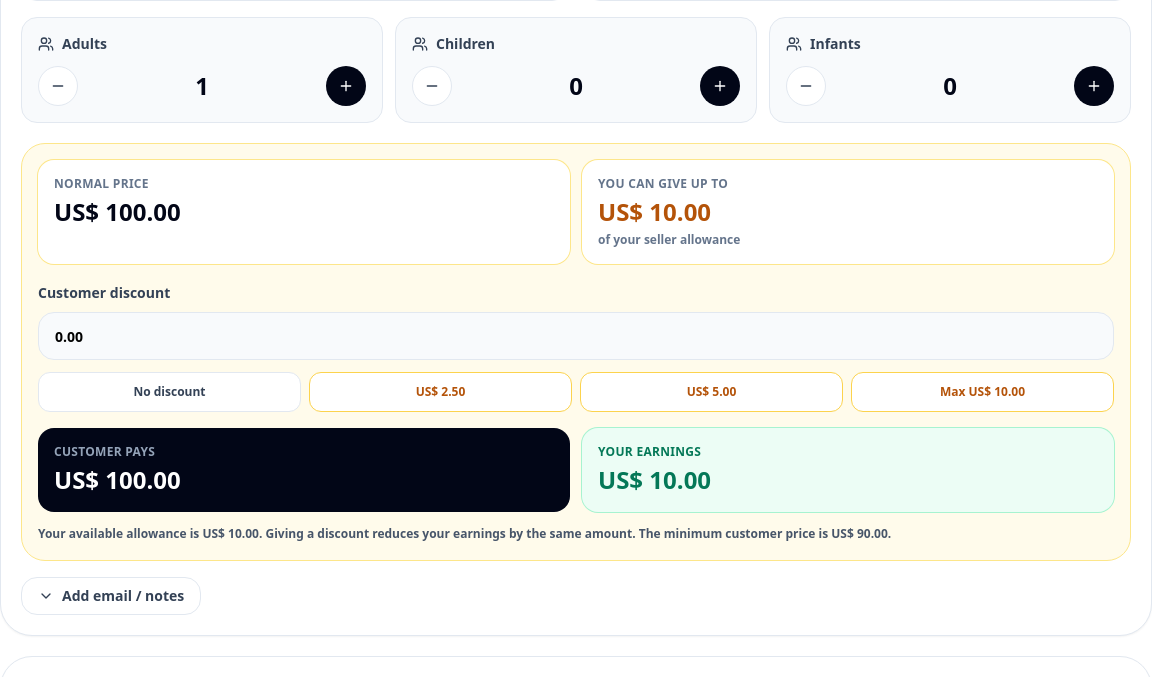
it: TicketingSellerNewBookingPage simple seller discount UI › clamps a typed value above the backend maximum when the field loses focus
(page scrolled)
Expected: the text "Normal price" is shown, [54,175,149,192]
Type "11" into the field labelled "Customer discount" at x=576, y=336, box [38,312,1114,360]
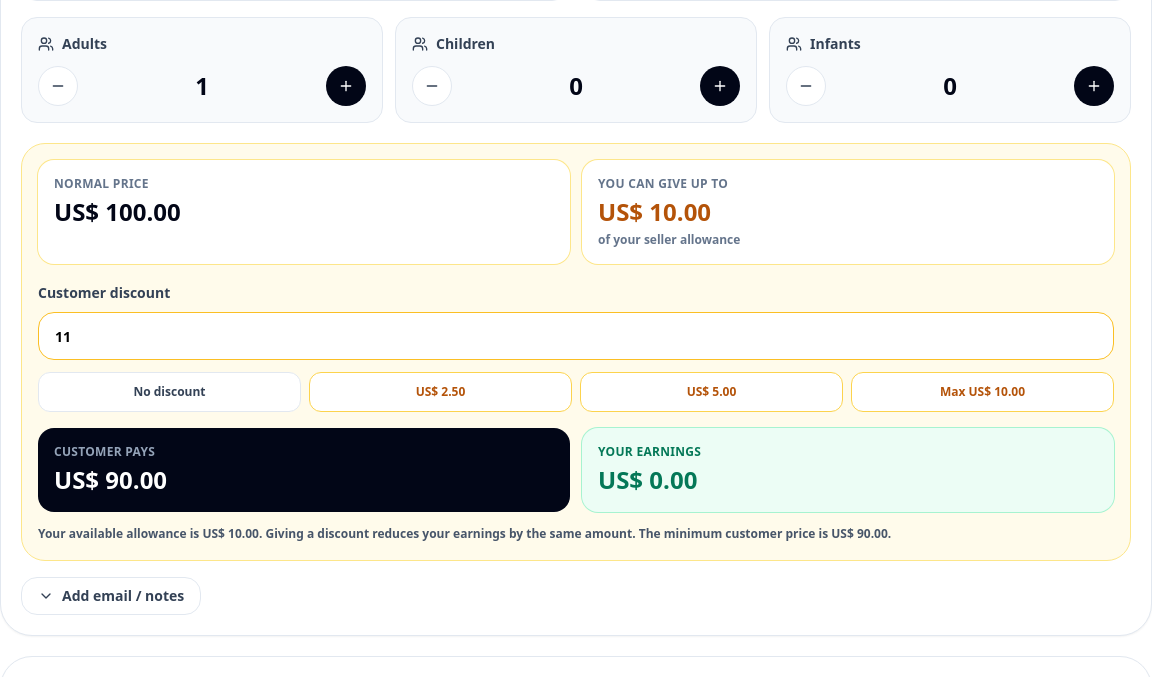
Press Tab
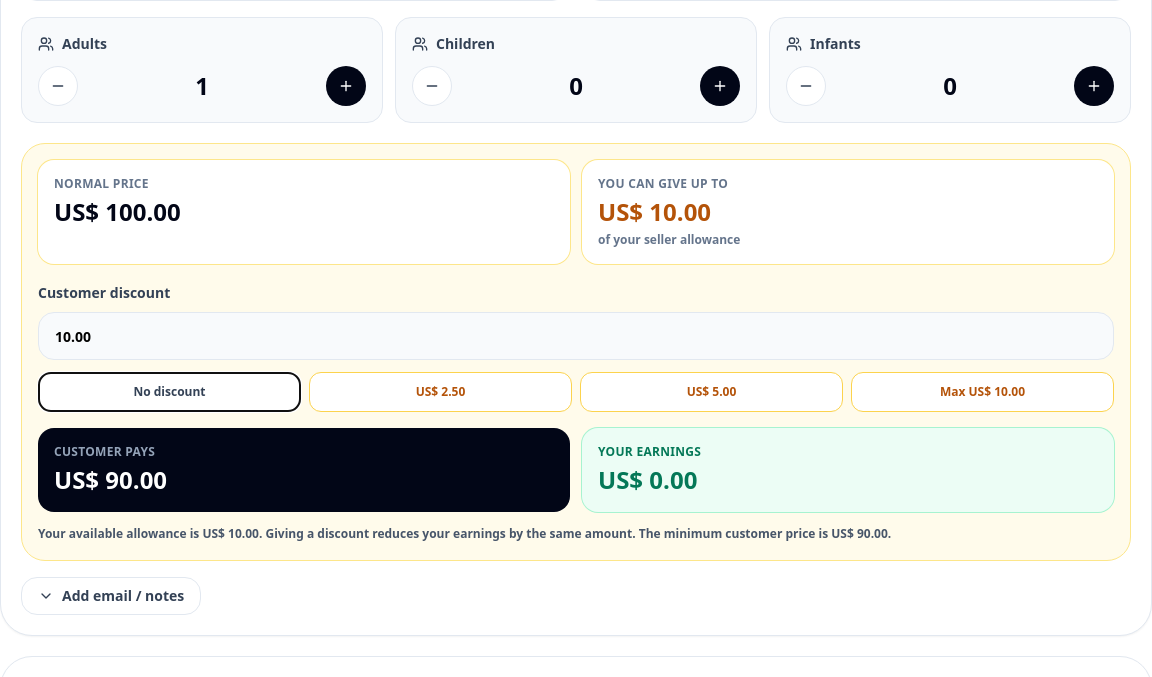
Result: the text "US$ 90.00" is shown at [54,463,167,496]
Result: the text "US$ 0.00" is shown at [598,463,697,496]
Result: the field labelled "Customer discount" holds "10.00" at [38,312,1114,360]
